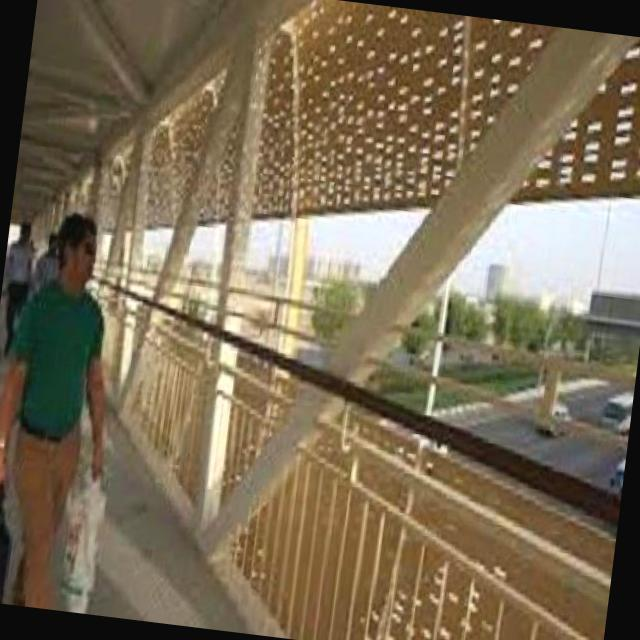Person: (0, 205, 138, 613), (0, 207, 42, 357)
